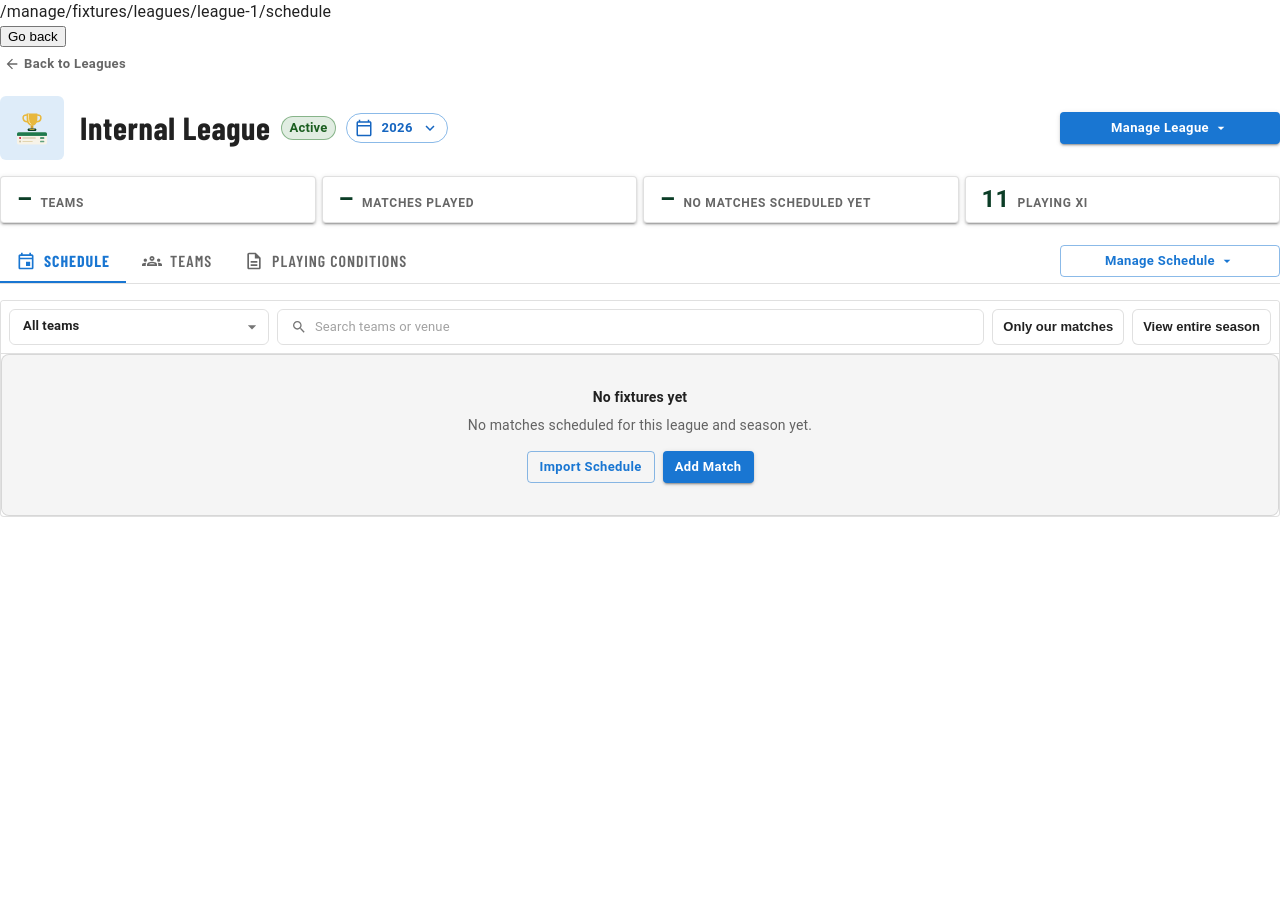
Test case: LeagueViewLayout › header › opens the Share League dialog from Manage League on the schedule tab, and returns focus to the button
The image size is (1280, 900).
Click the button "Manage League" at (1170, 128), box [1060,112,1279,144]
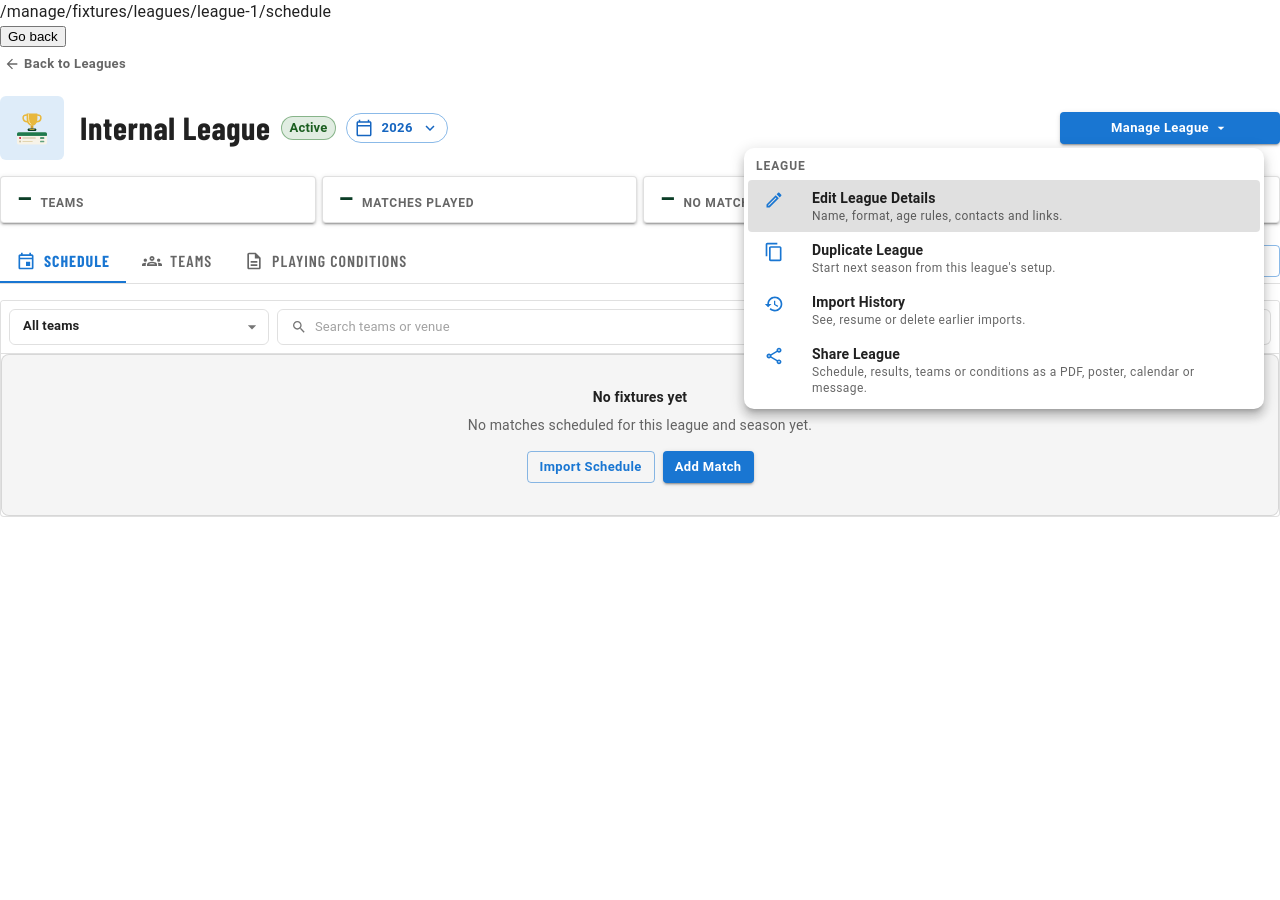
Click the menu item "Share League" at (979, 371), box [764,346,1194,395]
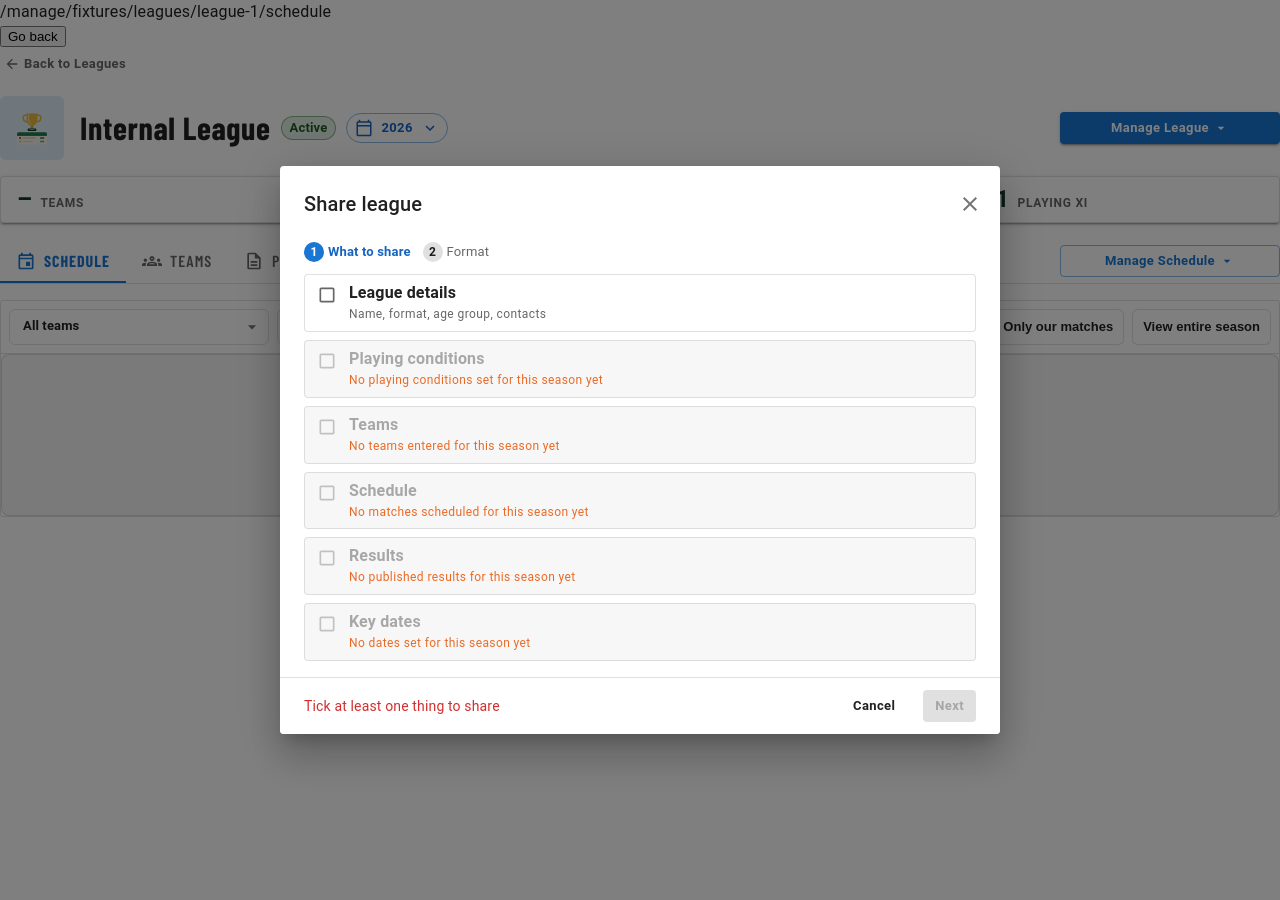
Now the dialog is shown, box [280,166,1000,734]
Press Escape
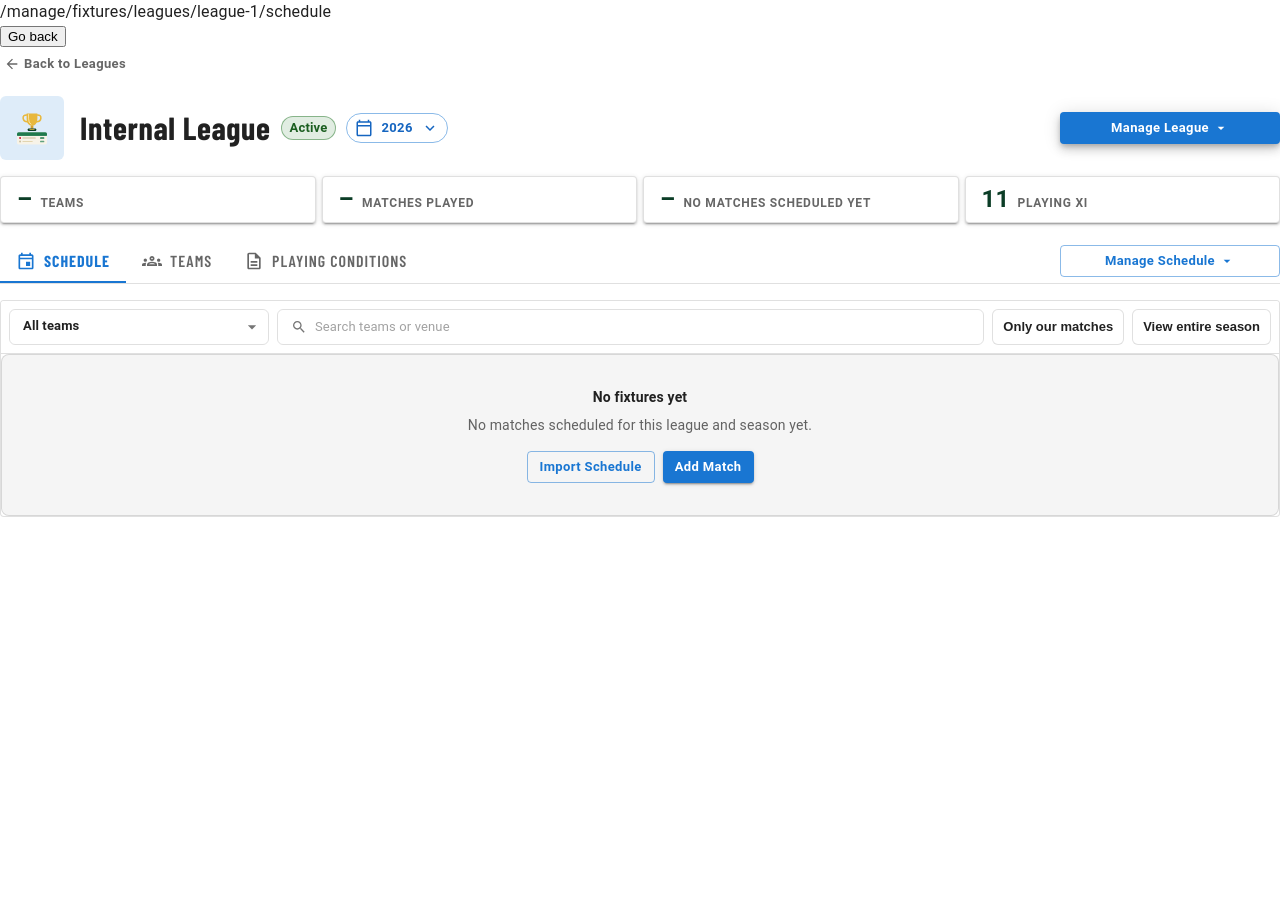
Now the dialog is gone
